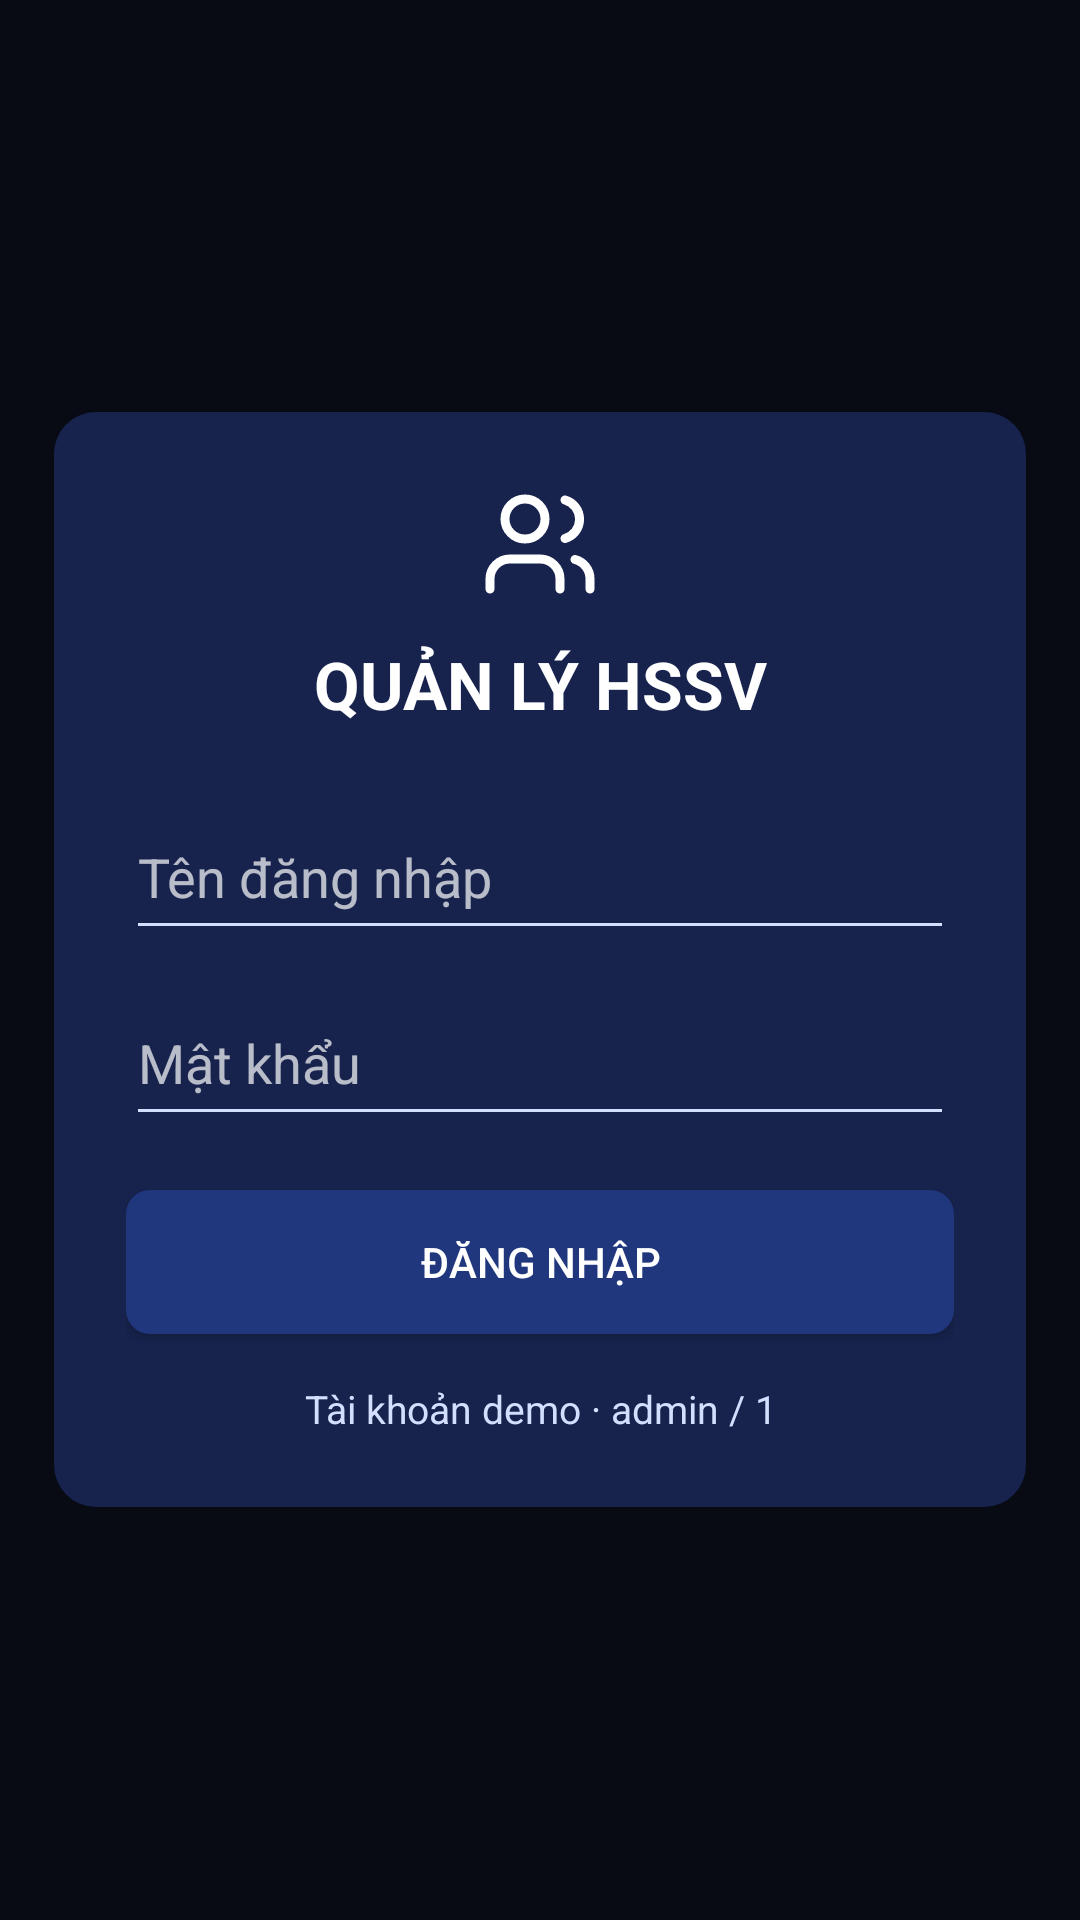

Icon bounding boxes for this 1080 × 1920 phone screenshot, format (x1, y1, x2, y2):
dashboard students: (485, 494, 595, 594)
